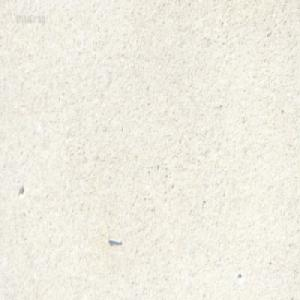Nail: (107, 235, 122, 245)
